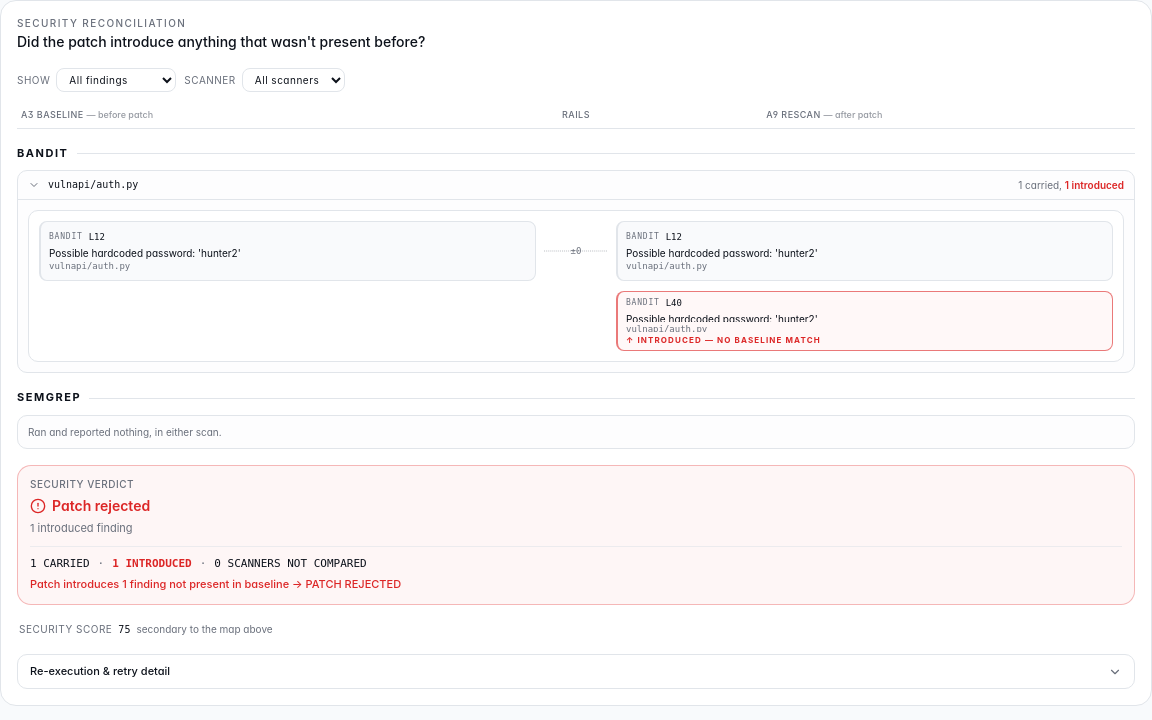
it: SecurityRescanPanel — the introduced finding › reveals why it has no rail, and the constraint carried into the retry
Click the button with aria-label "introduced bandit finding".
click(643, 303)  # box [616,292,1113,352]
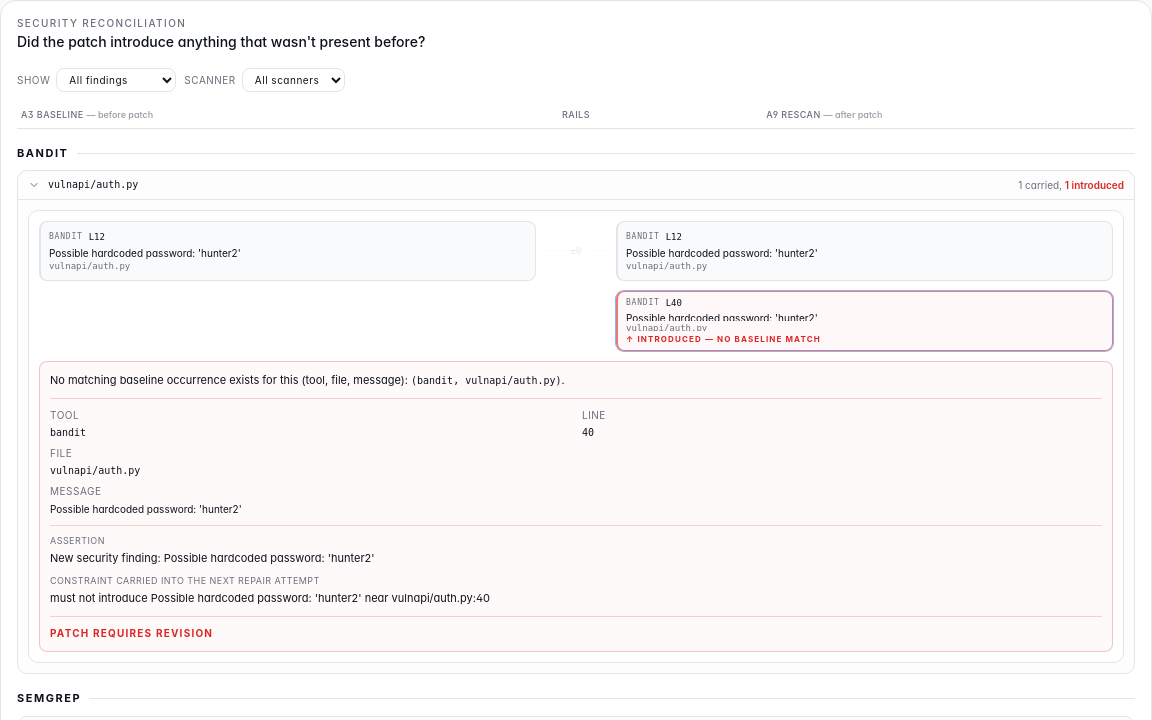
Check: the text "No matching baseline occurrence exists" is shown, box [50,374,408,388]
Check: the text "Constraint carried into the next repair attempt" is shown, box [50,575,320,586]
Check: the text "must not introduce" is shown, box [50,592,490,606]
